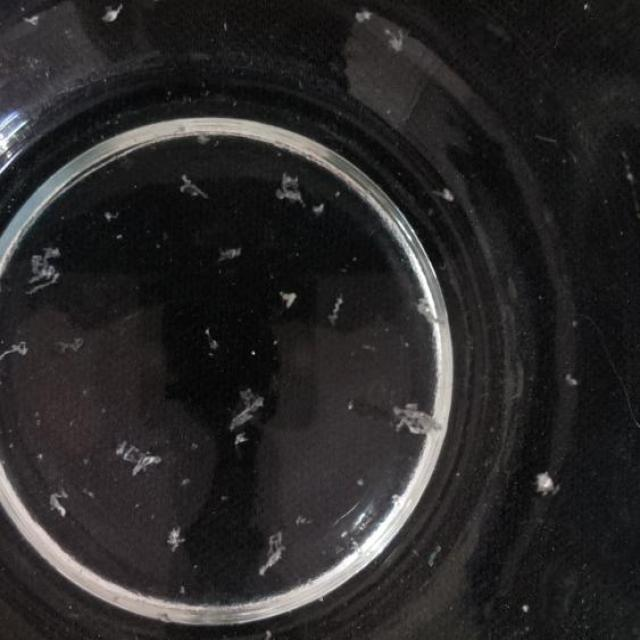fiber: (389, 399, 441, 436), (115, 438, 163, 476), (24, 248, 62, 295), (230, 387, 266, 427), (258, 531, 283, 575), (417, 293, 445, 326), (177, 175, 207, 204), (278, 171, 302, 205), (2, 341, 30, 365), (384, 26, 412, 50), (202, 325, 220, 361), (49, 486, 68, 519), (426, 539, 445, 569), (536, 473, 558, 498), (436, 183, 459, 204), (331, 294, 346, 326), (167, 527, 185, 553), (102, 3, 125, 23), (61, 336, 86, 354), (218, 246, 242, 264), (564, 371, 583, 391), (358, 7, 377, 26), (23, 12, 43, 28), (282, 289, 300, 306), (81, 488, 101, 500), (311, 203, 326, 218), (234, 431, 249, 446), (195, 131, 210, 146), (520, 598, 534, 613), (362, 342, 378, 354), (102, 208, 119, 219), (296, 516, 313, 526), (180, 473, 189, 490), (263, 628, 275, 640), (355, 477, 366, 489), (335, 187, 345, 200), (177, 583, 187, 594), (189, 437, 198, 449), (34, 452, 46, 460), (218, 494, 230, 501), (581, 3, 593, 10), (114, 233, 127, 239), (348, 399, 354, 412), (249, 350, 258, 355)
